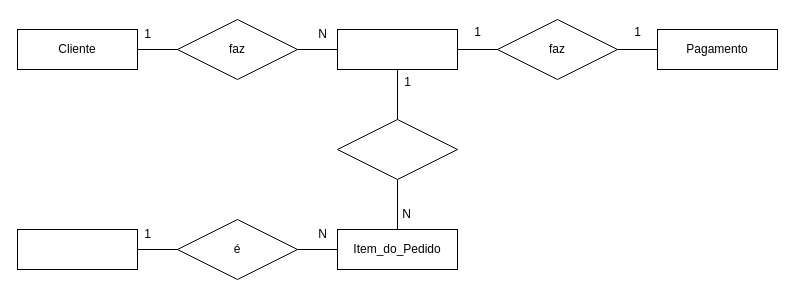
Image size: 795x297. Some labels were removed from this diagram. The shapes that lost their labels are listed below. From the top down, each one's centre as x and y in pixels, then its label:
At pixel 397 49: "Pedido".
At pixel 397 149: "adiciona".
At pixel 77 249: "Produto".
